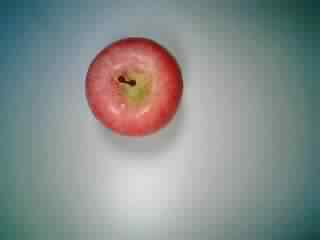apple: (83, 32, 184, 135)
